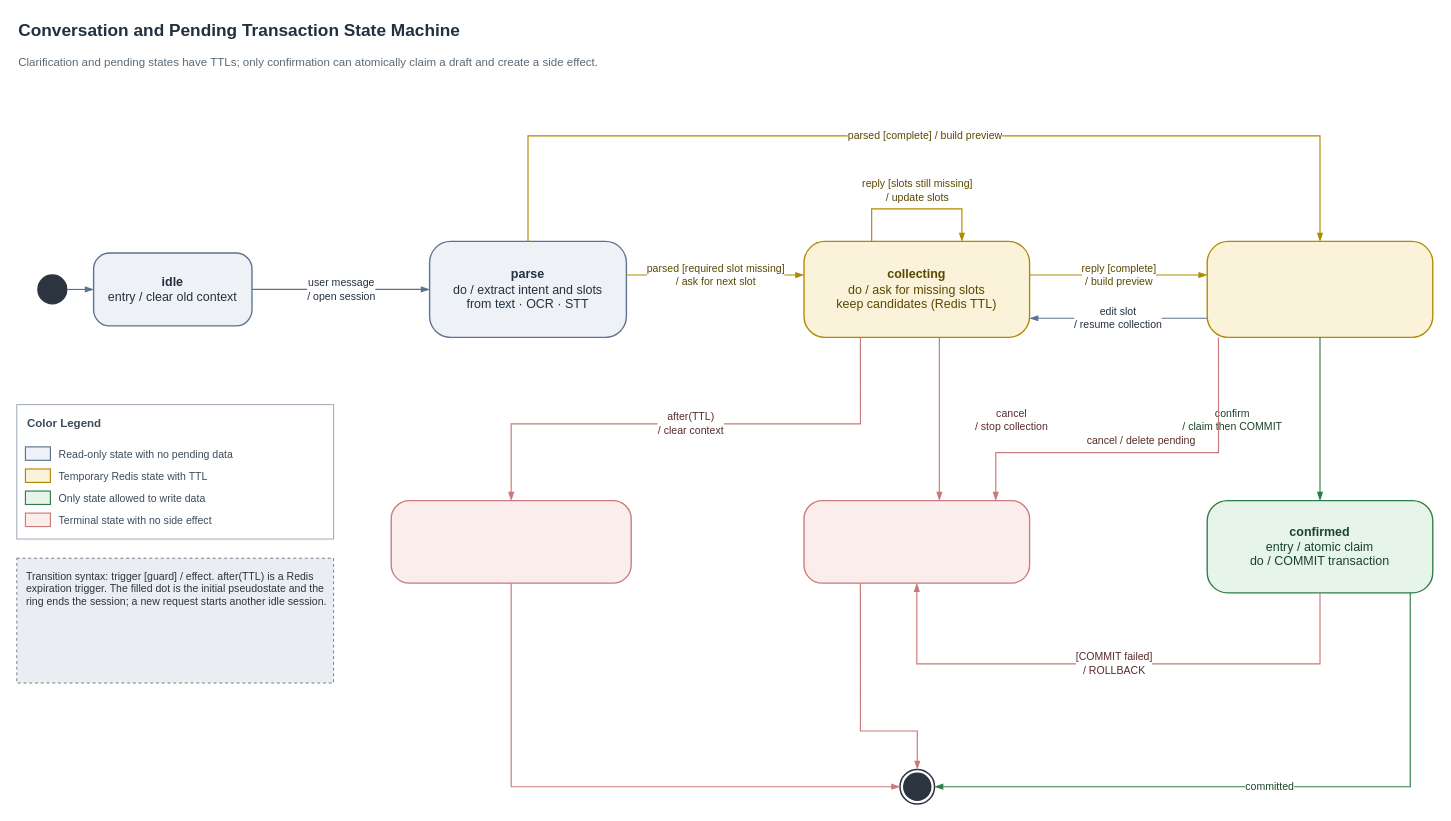
Some shapes in this 1451 by 821 pixel diagram are drawn without their labels. Each missing label, with the centre of its shape:
"cancelled entry / discard pending, no DB write" goes at [916,541].
"expired entry / delete Redis state" goes at [510,541].
"preview entry / build preview no side effect" goes at [1319,289].
